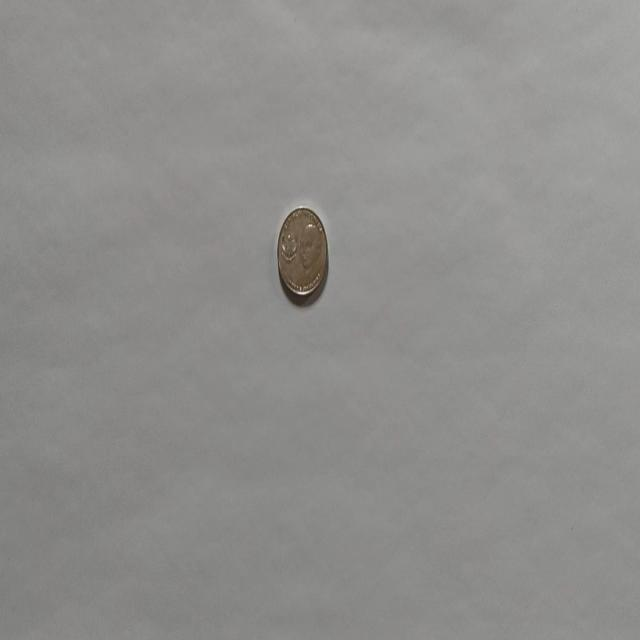lima ratus rupiah: (276, 204, 328, 300)
